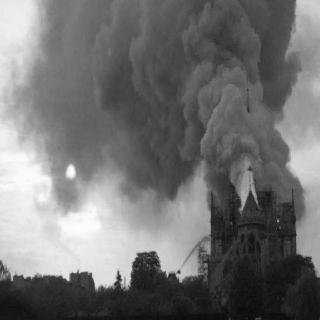Fire: (229, 161, 261, 224)
